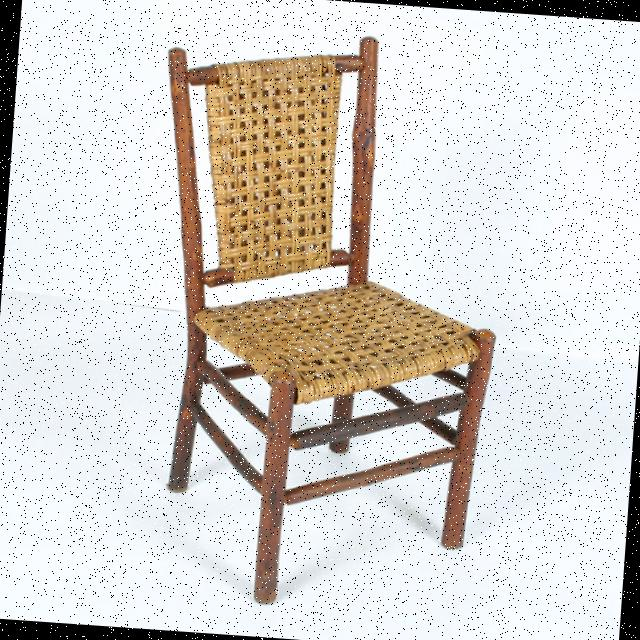Chair: (88, 18, 548, 632)
